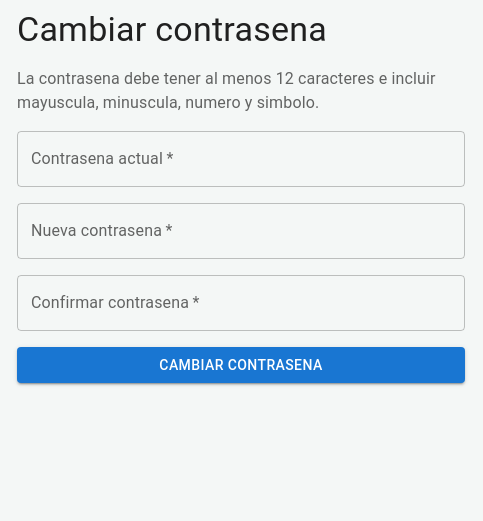
Scenario: CambiarContrasenaPage › reports an incorrect current password without changing credentials
Type "ContrasenaActual1!" into the password field labelled "Contrasena actual *" at (241, 159), box [17, 131, 465, 187]
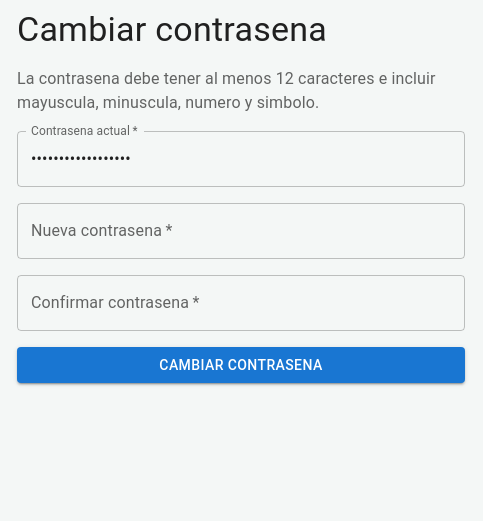
Type "ContrasenaNueva1!" into the password field labelled "Nueva contrasena *" at (241, 231), box [17, 203, 465, 259]
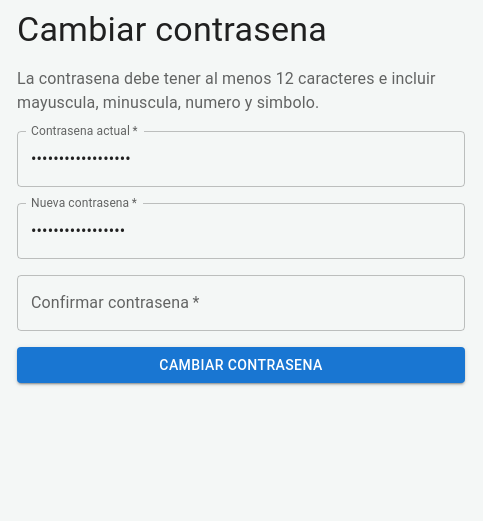
Type "ContrasenaNueva1!" into the password field labelled "Confirmar contrasena *" at (241, 303), box [17, 275, 465, 331]
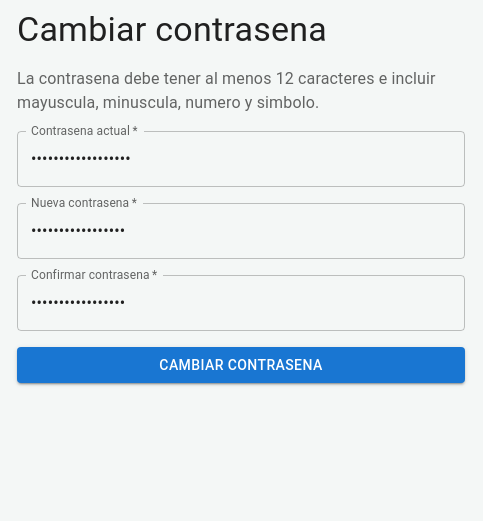
Click the button "Cambiar contrasena" at (241, 365), box [17, 347, 465, 384]
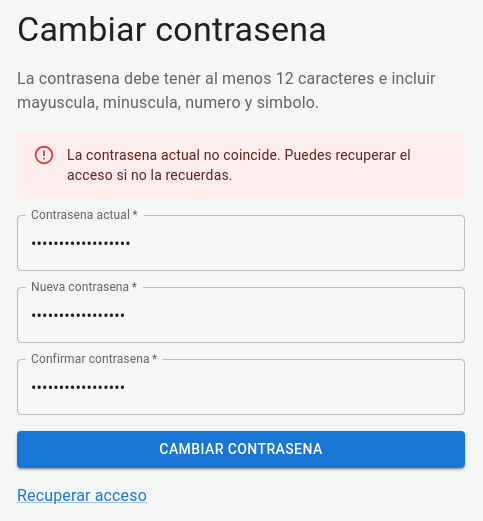
Expected: the text "contrasena actual no coincide" is shown, [67, 147, 411, 183]
